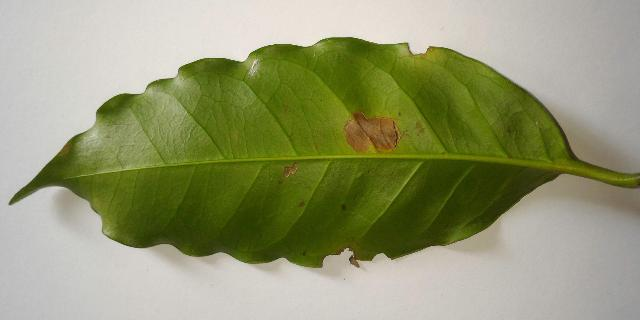cercospora: (343, 111, 402, 152), (283, 162, 298, 177)
